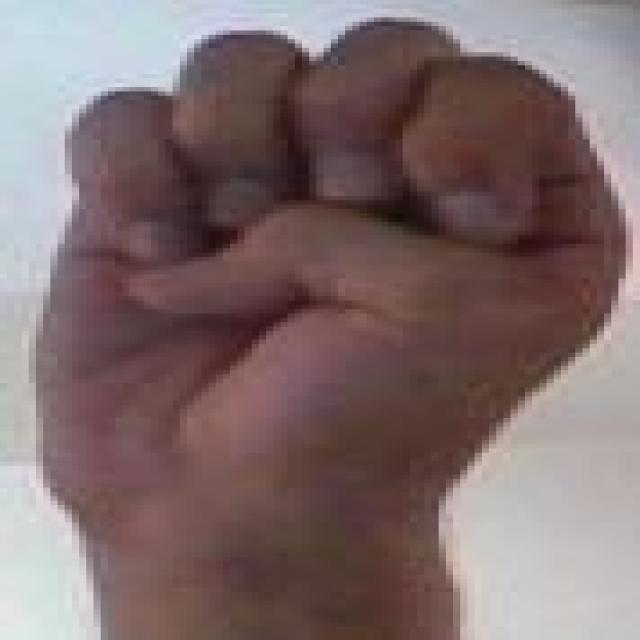E: (2, 5, 640, 525)
